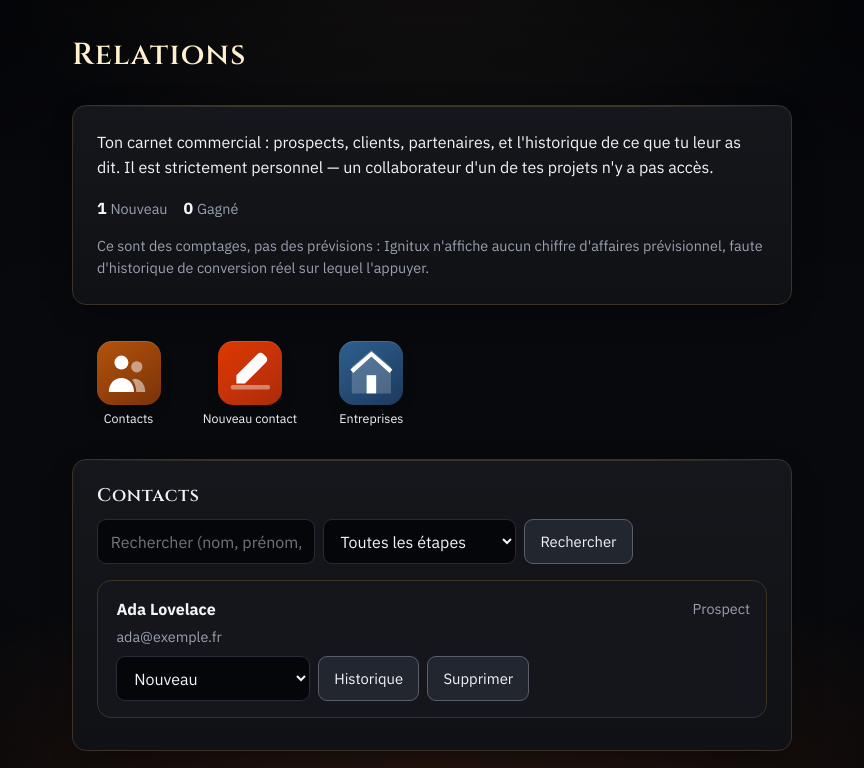
Test: CrmPage › affiche l'historique d'un contact avec la date réelle de l'échange
Expected: the text "Ada Lovelace" is shown, [116,597,216,622]
Click the button "Historique" at (369, 679), box [318,656,419,701]
(page scrolled)
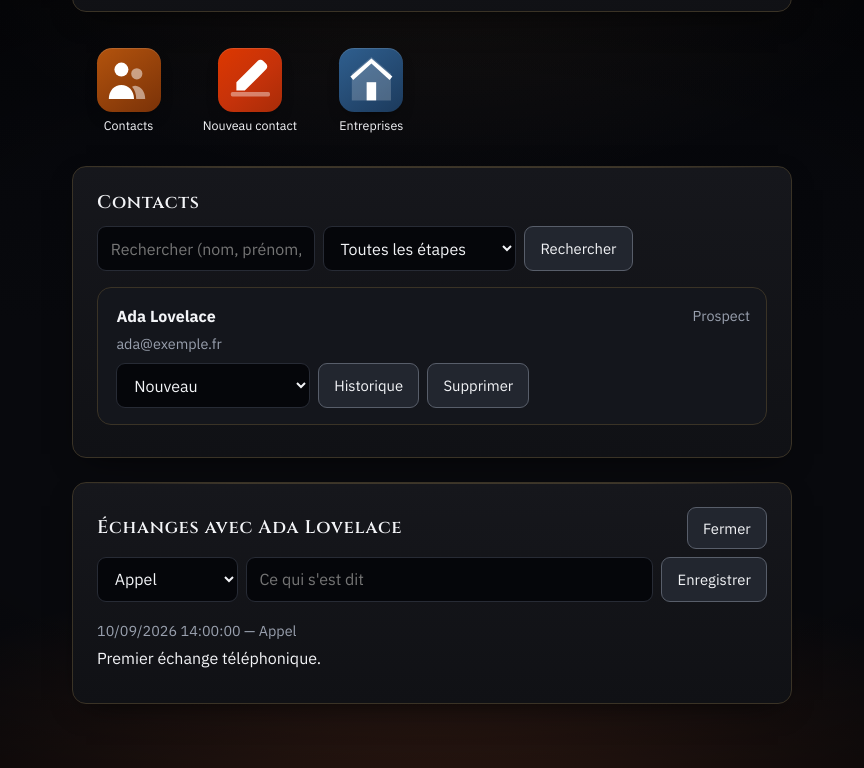
Expected: the text "Premier échange téléphonique." is shown, [97,648,321,668]
